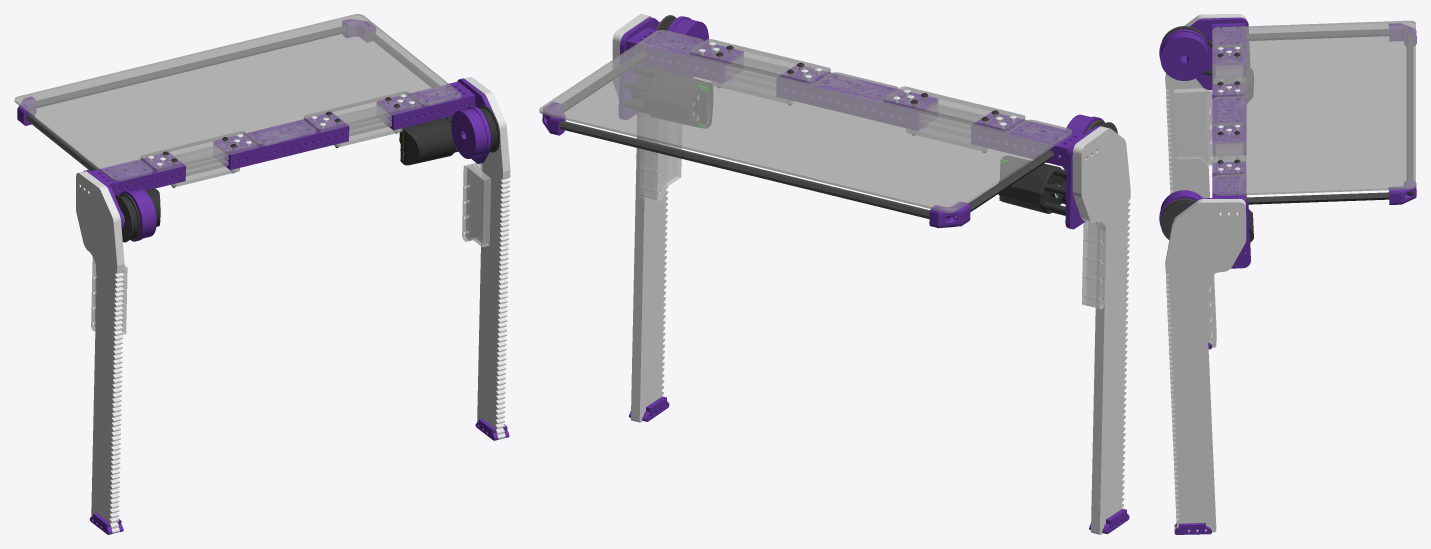
3 views of the same model, side by side, from view 1: azimuth 30°, elevation 25°; view 2: azimuth 150°, elevation 25°; view 3: azimuth 270°, elevation 25° (orthographic). The views are drawn at different scales.
Parts seen in each view (by area): view 1: 0200-Pared Poly Frontal, 10DP Gear Rack (35.5" L, #10-32 Clearance) (WCP-0543) (×4), Part 1 (×3), perfil 3/16 5.25" (×2), 0200-Poly Hibrido Exterior 3 hoyos (×2), 0204 - Retenedor (×2), 0200-Flecha 3/8 21.5", Kraken X60 Brushless Motor, 0200-Poly Hibrido Interior (×2), 0200-Poly Hibrido Exterior 1 hoyo (×2), 0200-Flecha 3/8 15" (×2), 40T HTD Pulley 10.5mm Wide; view 2: 0200-Pared Poly Frontal, 10DP Gear Rack (35.5" L, #10-32 Clearance) (WCP-0543) (×4), Part 1 (×4), perfil 3/16 5.25" (×2), 0204 - Retenedor (×6), Kraken X60 Brushless Motor (×2), 0200-Poly Hibrido Exterior 3 hoyos (×2), 0200-Flecha 3/8 21.5", 0200-Flecha 3/8 15" (×2), 0200-Poly Hibrido Interior (×2), 0200-Union 3D flechas 3/8; view 3: 0200-Pared Poly Frontal, 10DP Gear Rack (35.5" L, #10-32 Clearance) (WCP-0543) (×3), Part 1 (×5), 0204 - Retenedor (×4), 0200-Poly Hibrido Exterior 3 hoyos (×2), perfil 3/16 5.25" (×2), 0200-Flecha 3/8 15" (×2), 0200-Flecha 3/8 21.5", 0200-Union 3D flechas 3/8 (×2), 0200-Poly Hibrido Interior (×2), 40T HTD Pulley 10.5mm Wide, 0202 - Stopper Rack.
Boxes of the visible parts, x1,y1,x2,y2 form: 0200-Pared Poly Frontal: (14,14,461,181); 10DP Gear Rack (35.5" L, #10-32 Clearance) (WCP-0543) (×4): (76,77,510,533); Part 1 (×3): (120,106,491,241); perfil 3/16 5.25" (×2): (91,81,475,195); 0200-Poly Hibrido Exterior 3 hoyos (×2): (140,91,422,172); 0204 - Retenedor (×2): (462,164,491,247); 0200-Flecha 3/8 21.5": (36,26,346,107); Kraken X60 Brushless Motor: (399,118,455,165); 0200-Poly Hibrido Interior (×2): (175,106,391,170); 0200-Poly Hibrido Exterior 1 hoyo (×2): (171,123,403,186); 0200-Flecha 3/8 15" (×2): (26,31,439,170); 40T HTD Pulley 10.5mm Wide: (114,193,140,242); 0200-Pared Poly Frontal: (539,30,1072,212); 10DP Gear Rack (35.5" L, #10-32 Clearance) (WCP-0543) (×4): (612,14,1130,534); Part 1 (×4): (619,16,1098,229); perfil 3/16 5.25" (×2): (626,27,1083,167); 0204 - Retenedor (×6): (648,119,1106,309); Kraken X60 Brushless Motor (×2): (644,71,1066,213); 0200-Poly Hibrido Exterior 3 hoyos (×2): (689,39,1025,131); 0200-Flecha 3/8 21.5": (559,121,929,219); 0200-Flecha 3/8 15" (×2): (562,51,1054,211); 0200-Poly Hibrido Interior (×2): (726,57,983,130); 0200-Union 3D flechas 3/8: (929,201,970,228); 0200-Pared Poly Frontal: (1212,20,1415,195); 10DP Gear Rack (35.5" L, #10-32 Clearance) (WCP-0543) (×3): (1165,15,1246,532); Part 1 (×5): (1159,17,1250,268); 0204 - Retenedor (×4): (1174,88,1216,343); 0200-Poly Hibrido Exterior 3 hoyos (×2): (1212,44,1245,176); perfil 3/16 5.25" (×2): (1212,23,1246,198); 0200-Flecha 3/8 15" (×2): (1246,29,1389,204); 0200-Flecha 3/8 21.5": (1407,36,1413,180); 0200-Union 3D flechas 3/8 (×2): (1388,23,1416,204); 0200-Poly Hibrido Interior (×2): (1216,65,1242,161); 40T HTD Pulley 10.5mm Wide: (1160,198,1195,239); 0202 - Stopper Rack: (1174,523,1211,534).
Size of the model in its own units: 0.6858 by 0.5583 by 0.3885.
